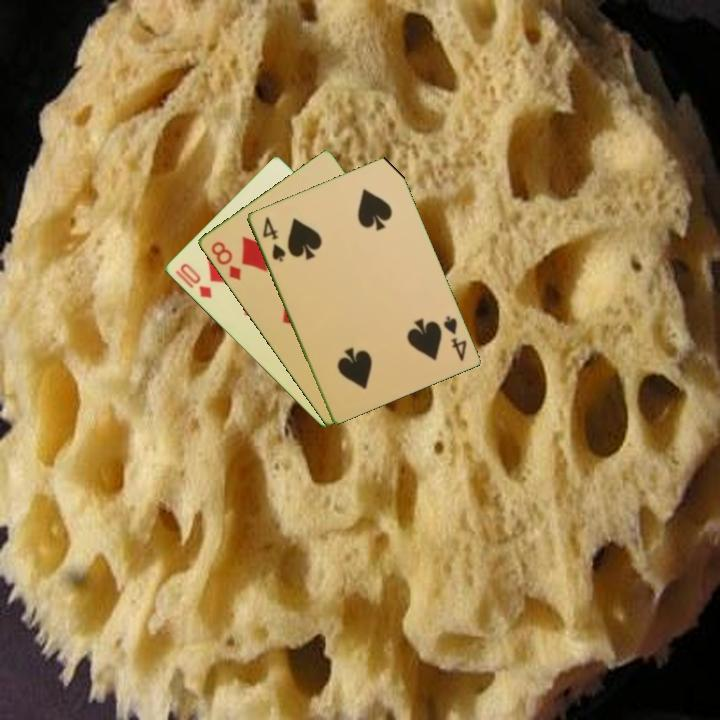10d: (171, 260, 215, 301)
4s: (439, 312, 469, 364), (259, 213, 288, 265)
8d: (207, 238, 244, 283)
